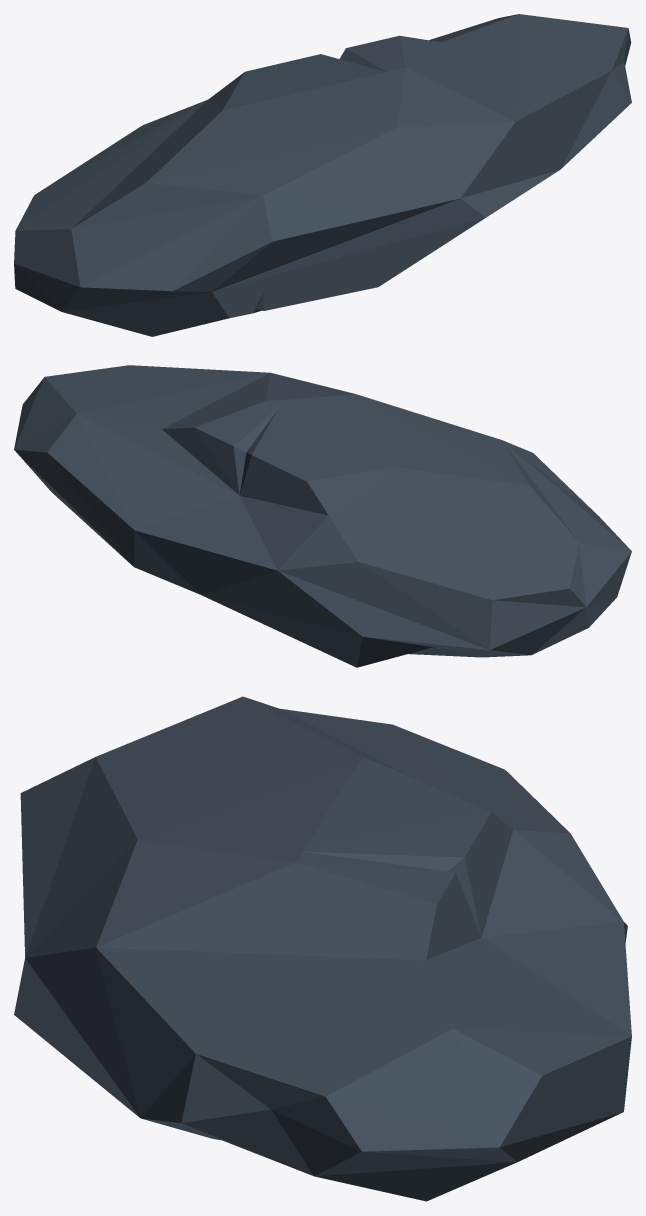
Rendered from Rock005.obj.
The picture shows the model from 3 angles, top to bottom: view 1: azimuth 30°, elevation 25°; view 2: azimuth 150°, elevation 25°; view 3: azimuth 270°, elevation 25°; orthographic projection. The views are drawn at different scales.
Visible parts, largest first — view 1: Stone_Material; view 2: Stone_Material; view 3: Stone_Material.
Boxes of the visible parts, left/top/right/bottom form: Stone_Material: left=14, top=14, right=631, bottom=336; Stone_Material: left=14, top=365, right=631, bottom=667; Stone_Material: left=14, top=696, right=631, bottom=1201.
Bounding box in the file's own units: 1.9 × 0.577 × 0.9608.
1 material, 1 textured.
